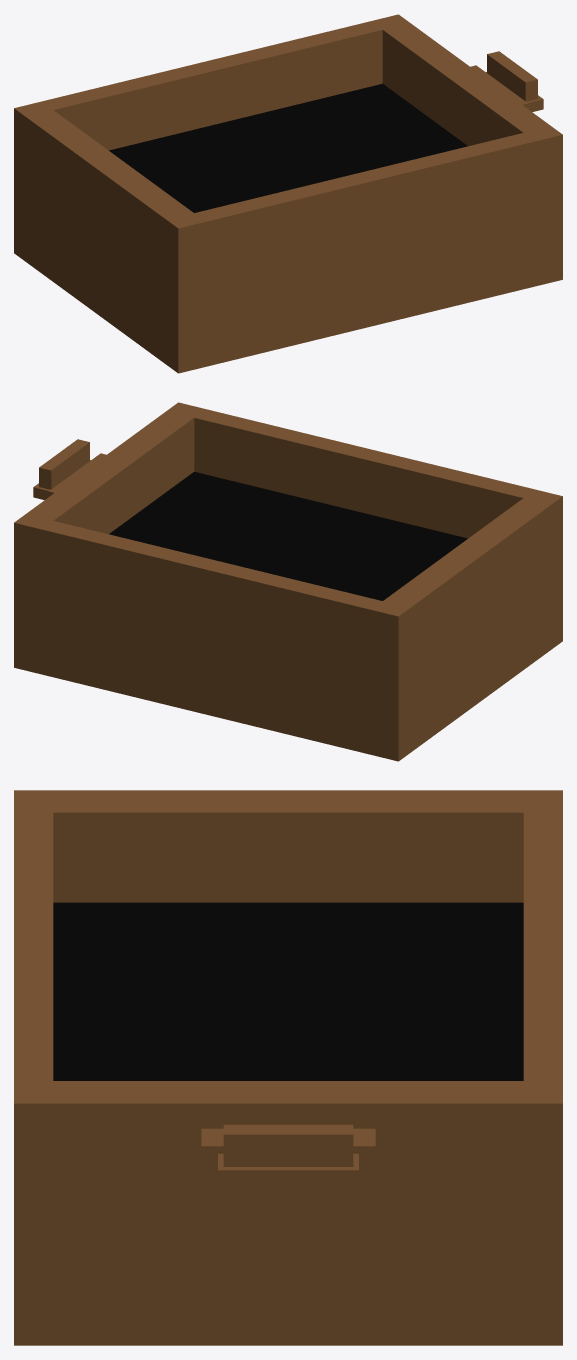
Rendered from Gaveta.fbx.
3 renders of one model, top to bottom at view 1: azimuth 30°, elevation 25°; view 2: azimuth 150°, elevation 25°; view 3: azimuth 270°, elevation 25°, orthographic. The views are drawn at different scales.
Visible parts, largest first — view 1: Cube; view 2: Cube; view 3: Cube.
Part boxes in pixels (x1=…): Cube: x1=14, y1=14, x2=562, y2=373; Cube: x1=14, y1=402, x2=562, y2=761; Cube: x1=14, y1=790, x2=562, y2=1345.
Size of the model in its own units: 300 by 97.35 by 200.
